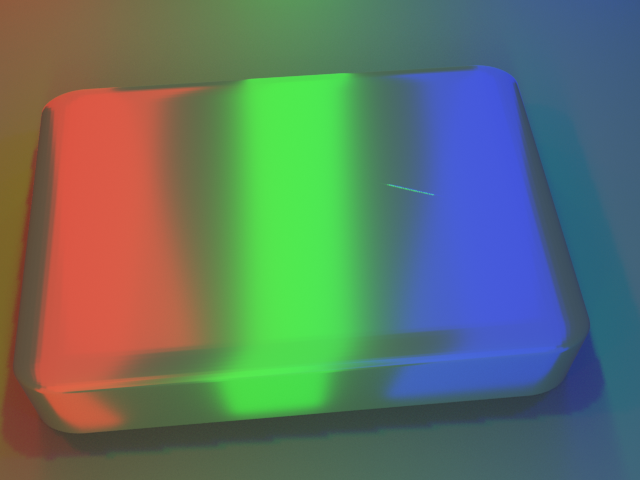scratch: (337, 137, 508, 233)
